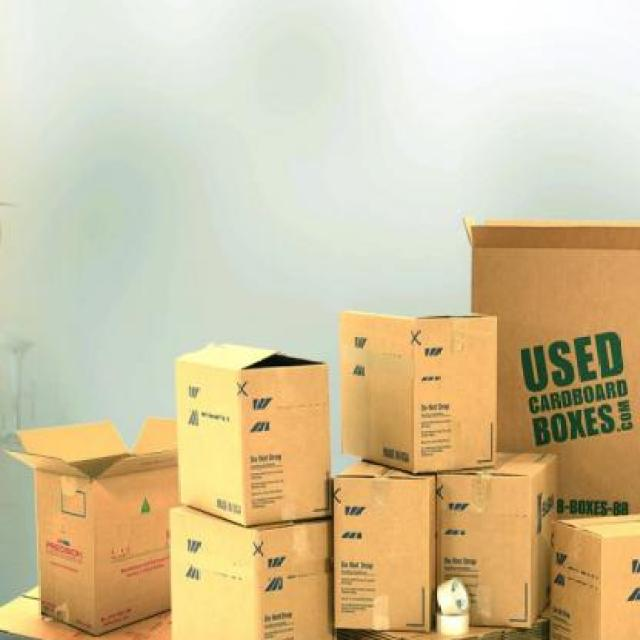box: (460, 206, 638, 515), (0, 410, 177, 640), (171, 325, 332, 529), (334, 294, 498, 472), (166, 491, 339, 640), (433, 451, 564, 635), (320, 449, 440, 640), (550, 509, 638, 640), (332, 625, 556, 640)
